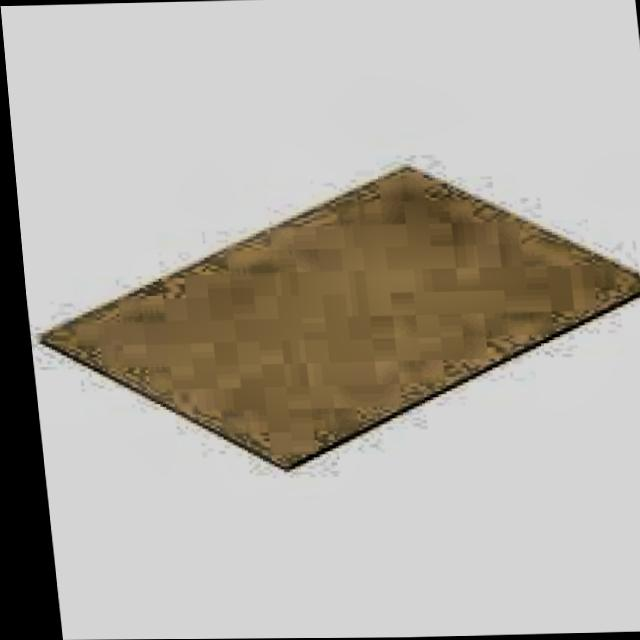Cardbox: (10, 142, 640, 502)
